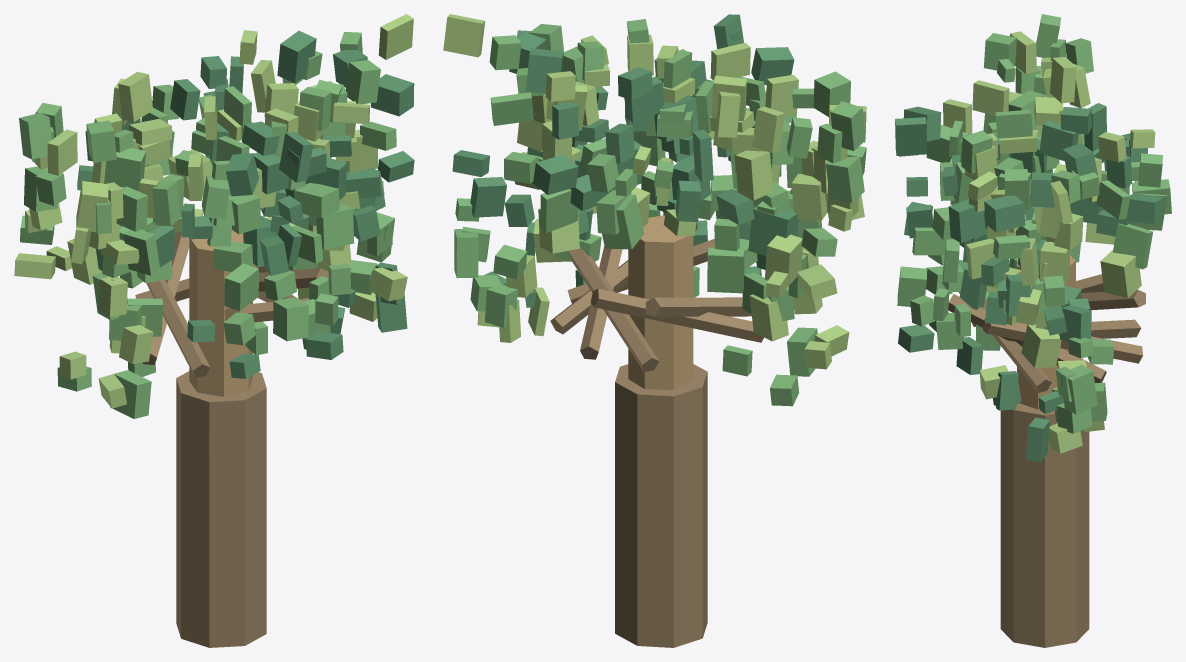
Rendered from granular_willow_tree.glb.
3 views of the same model, side by side, from view 1: azimuth 30°, elevation 25°; view 2: azimuth 150°, elevation 25°; view 3: azimuth 270°, elevation 25° (orthographic). The views are drawn at different scales.
Parts seen in each view (by area): view 1: granular_willow_tree_root; view 2: granular_willow_tree_root; view 3: granular_willow_tree_root.
Boxes of the visible parts, <box> form: granular_willow_tree_root: <box>14,14,414,647</box>; granular_willow_tree_root: <box>443,14,866,647</box>; granular_willow_tree_root: <box>895,14,1171,647</box>.
Size of the model in its own units: 3.68 by 5 by 2.36.
